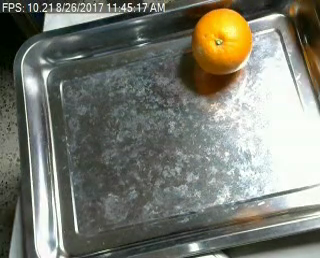Orange: (192, 8, 252, 74)
